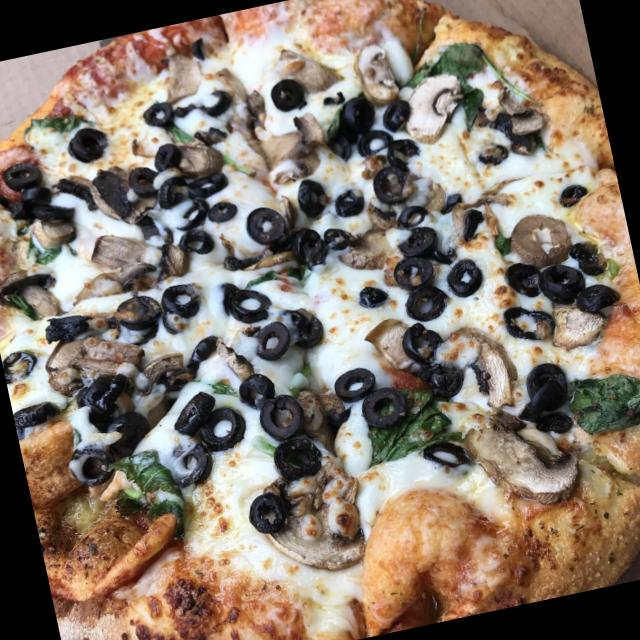black_olives: (538, 253, 620, 323), (0, 153, 70, 229), (389, 248, 454, 326), (516, 357, 577, 440), (320, 94, 390, 165), (266, 430, 324, 488), (414, 431, 472, 482), (156, 274, 210, 328), (64, 434, 118, 488), (500, 295, 550, 349), (114, 290, 168, 339), (74, 370, 133, 414), (102, 408, 154, 456), (232, 366, 282, 415), (254, 393, 304, 442), (438, 185, 482, 240), (218, 276, 268, 324), (12, 390, 66, 434), (243, 489, 291, 538), (262, 70, 310, 119), (361, 383, 406, 433), (168, 390, 214, 436), (201, 408, 249, 452), (366, 160, 410, 208), (438, 252, 482, 298), (497, 256, 542, 300), (162, 438, 205, 483), (327, 364, 373, 406), (401, 316, 444, 360), (318, 215, 362, 258), (287, 306, 328, 352), (240, 202, 282, 246), (392, 218, 436, 260), (0, 338, 37, 385), (62, 122, 105, 162), (291, 175, 328, 220), (168, 197, 213, 233), (174, 222, 213, 262), (251, 317, 289, 358), (288, 223, 326, 264), (196, 84, 234, 121), (136, 99, 174, 132), (124, 160, 157, 197), (354, 280, 392, 312), (147, 135, 182, 169), (555, 180, 588, 212), (474, 135, 504, 168), (154, 171, 183, 205), (330, 185, 362, 215), (393, 203, 424, 229)
mushrooms: (460, 394, 597, 526), (260, 458, 370, 578), (432, 316, 522, 420), (89, 214, 190, 294), (44, 324, 140, 397), (252, 110, 331, 189), (76, 156, 154, 223), (486, 77, 551, 156), (0, 255, 65, 333), (504, 201, 574, 267), (398, 68, 461, 140), (336, 207, 399, 274), (346, 38, 398, 108), (359, 315, 414, 375), (541, 296, 601, 350), (210, 328, 260, 382), (174, 134, 226, 181), (134, 348, 186, 391), (28, 210, 73, 252)
pizza: (0, 0, 640, 640)
